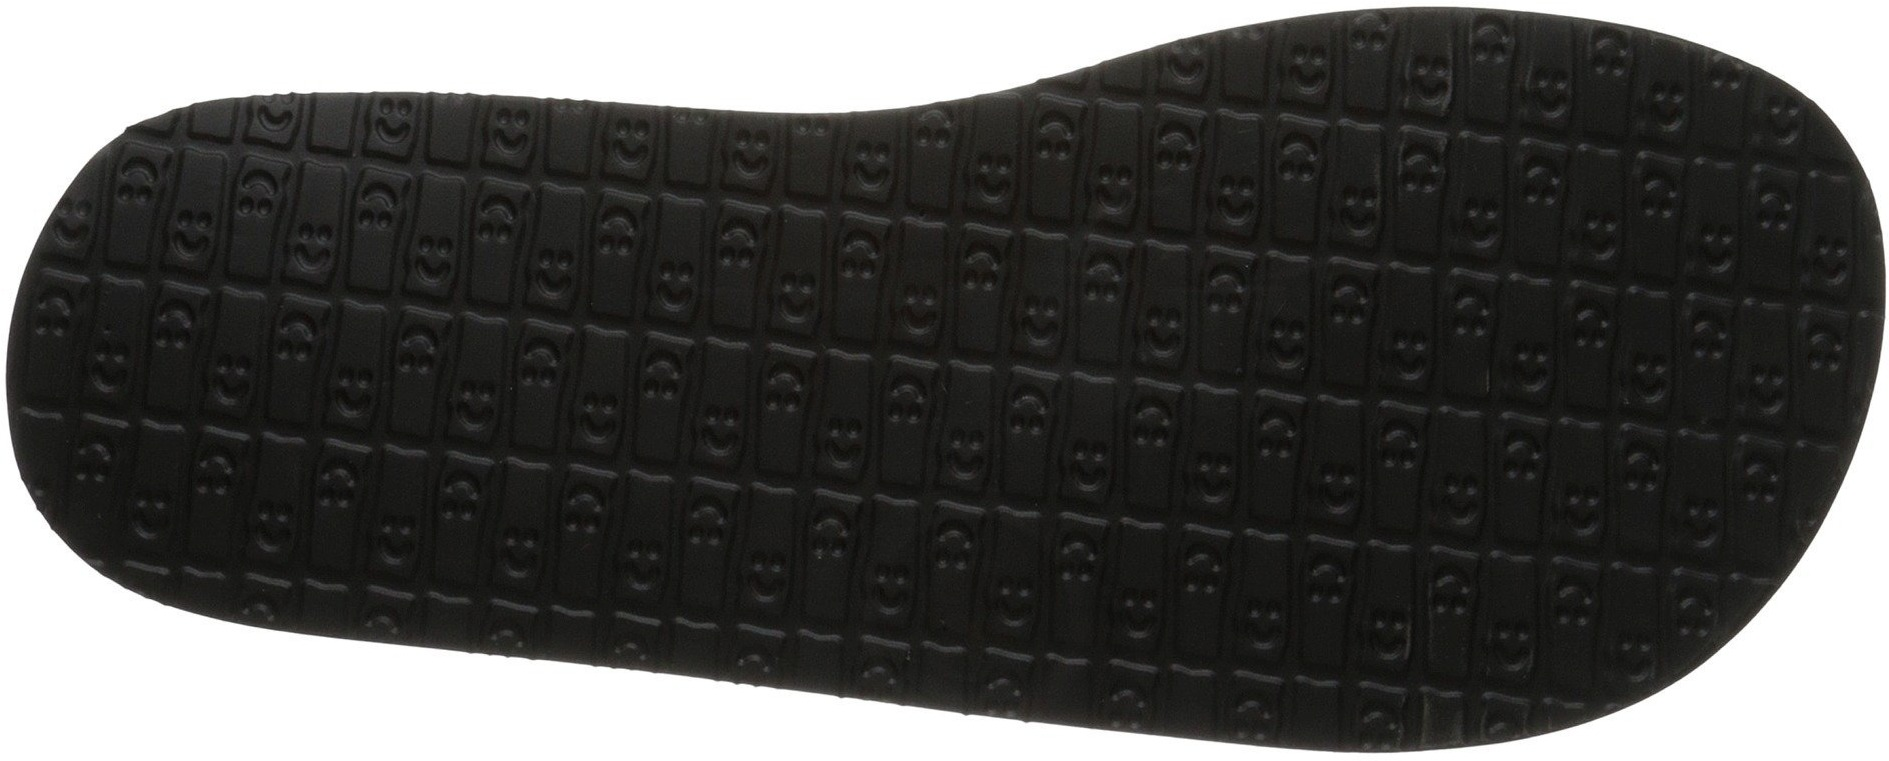circle: (639, 129, 1122, 655), (175, 146, 631, 610), (1125, 64, 1535, 433), (1549, 61, 1869, 395), (1132, 440, 1436, 735), (1448, 443, 1687, 676)
quad: (639, 129, 1122, 655), (175, 146, 631, 610), (1125, 64, 1535, 433), (1549, 61, 1869, 395), (1132, 440, 1436, 735), (1448, 443, 1687, 676)
text: (639, 129, 1122, 655), (175, 146, 631, 610), (1125, 64, 1535, 433), (1549, 61, 1869, 395), (1132, 440, 1436, 735), (1448, 443, 1687, 676)
